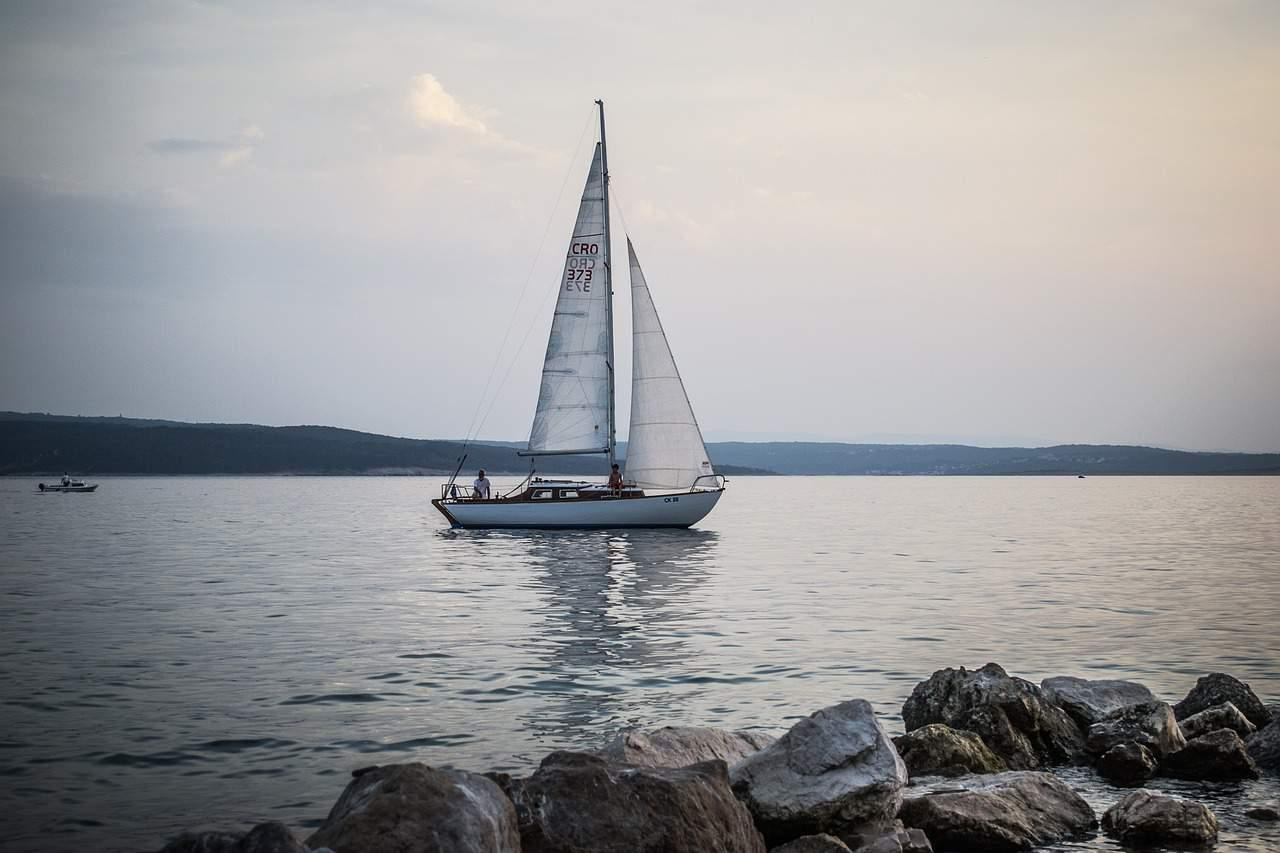Ship: (431, 103, 726, 531), (39, 474, 98, 494)
